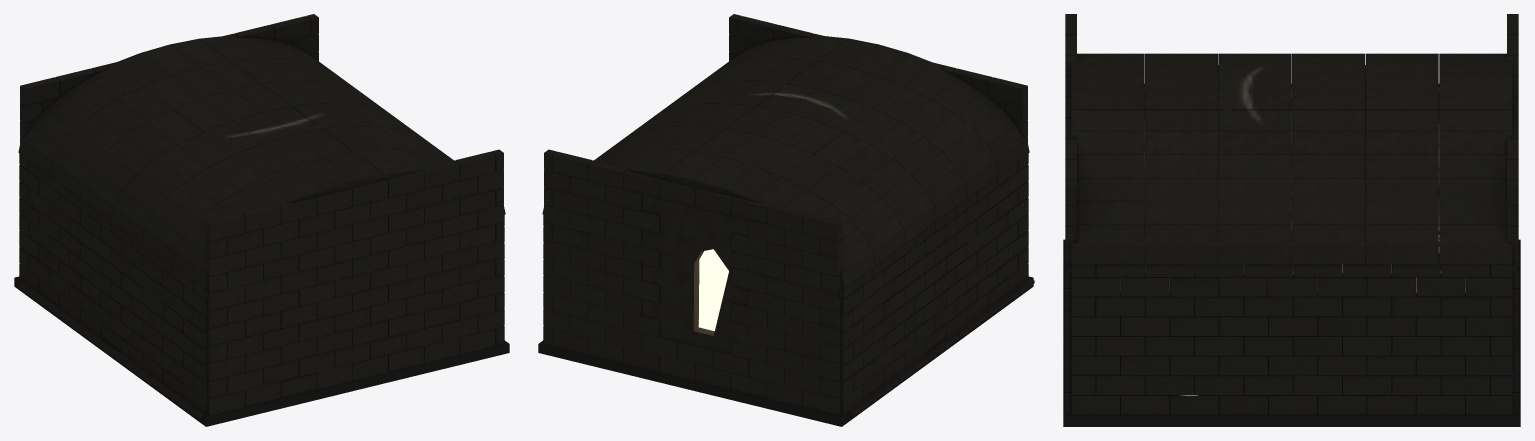
3 views of the same model, side by side, from view 1: azimuth 30°, elevation 25°; view 2: azimuth 150°, elevation 25°; view 3: azimuth 270°, elevation 25° (orthographic). The views are drawn at different scales.
Parts seen in each view (by area): view 1: potions_architecture, potions_floor; view 2: potions_architecture, potions_floor, potions_glow; view 3: potions_architecture, potions_floor, potions_furniture.
Part boxes in pixels (x1=…): potions_architecture: x1=18, y1=14, x2=505, y2=415; potions_floor: x1=14, y1=276, x2=509, y2=426; potions_architecture: x1=542, y1=14, x2=1029, y2=415; potions_floor: x1=538, y1=276, x2=1034, y2=426; potions_glow: x1=698, y1=249, x2=728, y2=331; potions_architecture: x1=1065, y1=14, x2=1518, y2=414; potions_floor: x1=1063, y1=239, x2=1520, y2=426; potions_furniture: x1=1095, y1=127, x2=1490, y2=411.
Bounding box in the file's own units: 10.76 × 6.93 × 11.6.
Materials: 6 (4 with a texture image).
